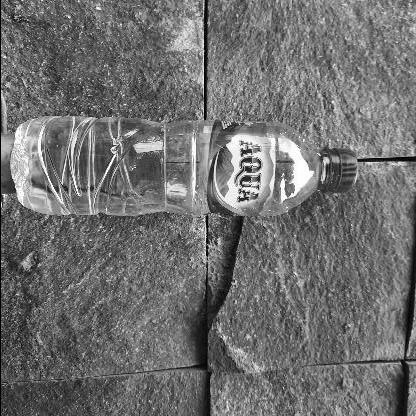plastic_bottles: (11, 113, 359, 221)
